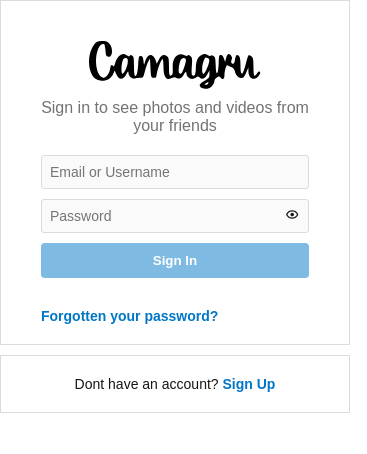
Test: SigninForm › show error when credentals are invalid
Type "wronguser" into the field with test id "login-signin".
click(175, 172); type("wronguser")  # box [41, 155, 309, 189]
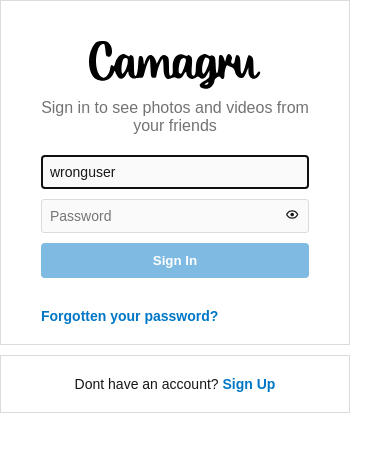
Type "WrongPass123!" into the password field with test id "password-signin".
click(175, 216); type("WrongPass123!")  # box [41, 199, 309, 233]
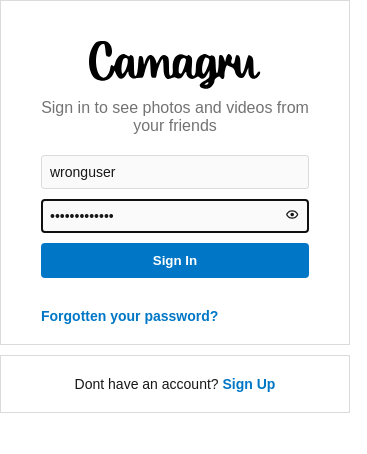
Click the button with test id "signin-button".
click(175, 260)  # box [41, 243, 309, 278]
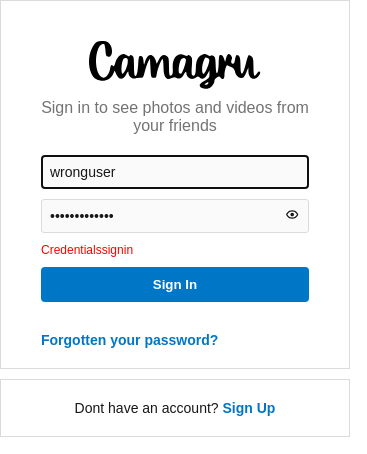
Expected: the text "Credentialssignin" is shown, [41, 243, 133, 257]
